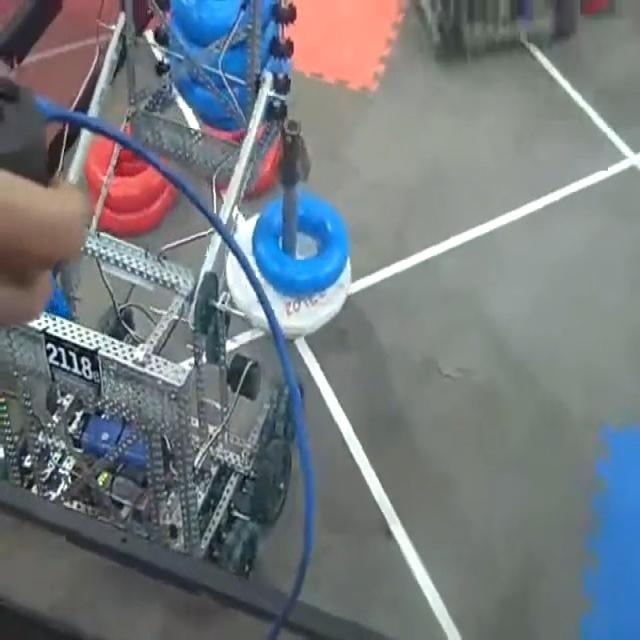Blue-Ring: (252, 190, 350, 294)
Red-Ring: (85, 137, 171, 214), (99, 185, 175, 236)
